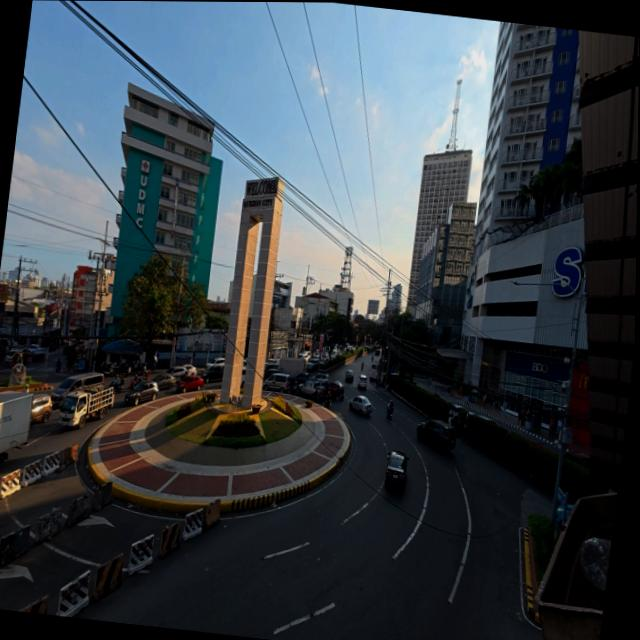car: (297, 370, 349, 404), (157, 361, 208, 394), (413, 418, 457, 455), (383, 448, 412, 490), (124, 377, 160, 409), (348, 393, 375, 418)
vans: (262, 370, 291, 394)
